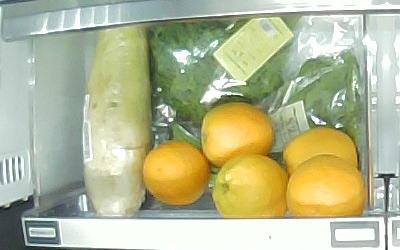orange: (286, 154, 365, 216), (212, 155, 289, 217), (200, 102, 273, 166), (143, 141, 210, 204), (283, 127, 358, 176)
